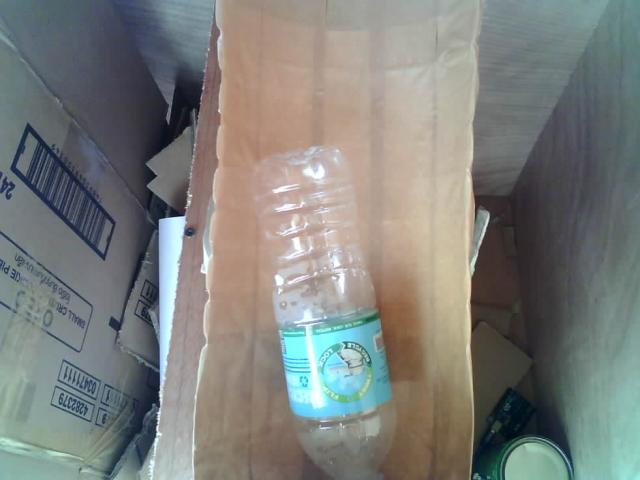small_bottle: (237, 136, 417, 480)
